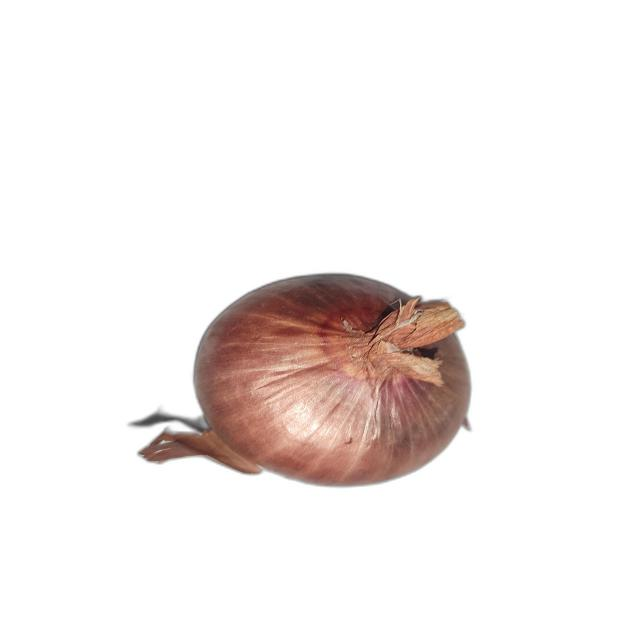onion: (137, 272, 474, 489)
